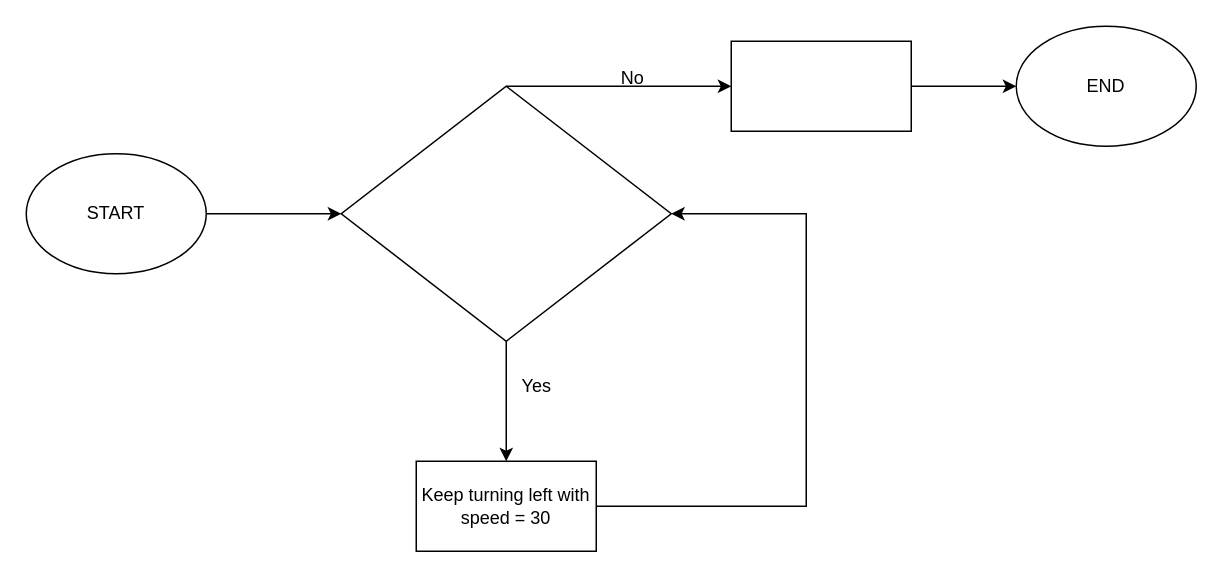
Some shapes in this 1223 by 578 pixel diagram are drawn without their labels. Each missing label, with the centre of its shape:
STOP Motor: [820,85]
While: gyro readings < 180: [505,213]
